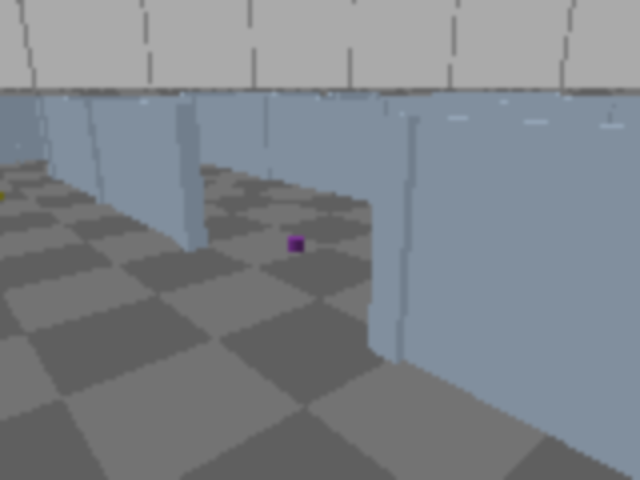puck: (288, 235, 304, 252)
